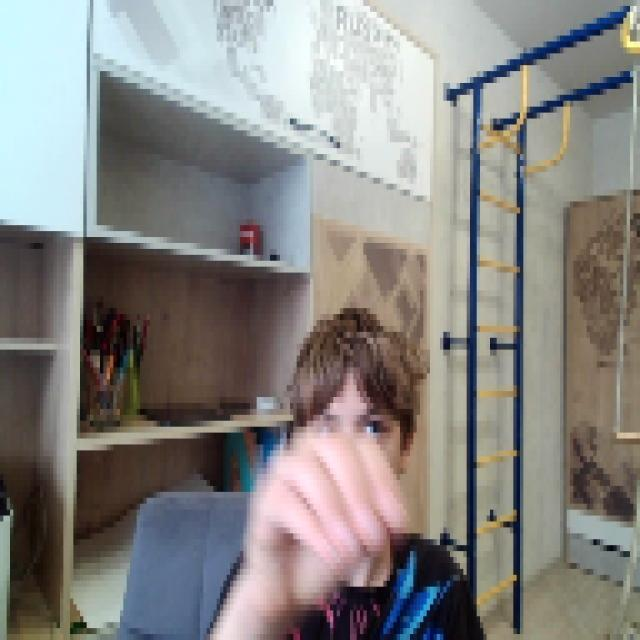left_click: (247, 415, 403, 610)
